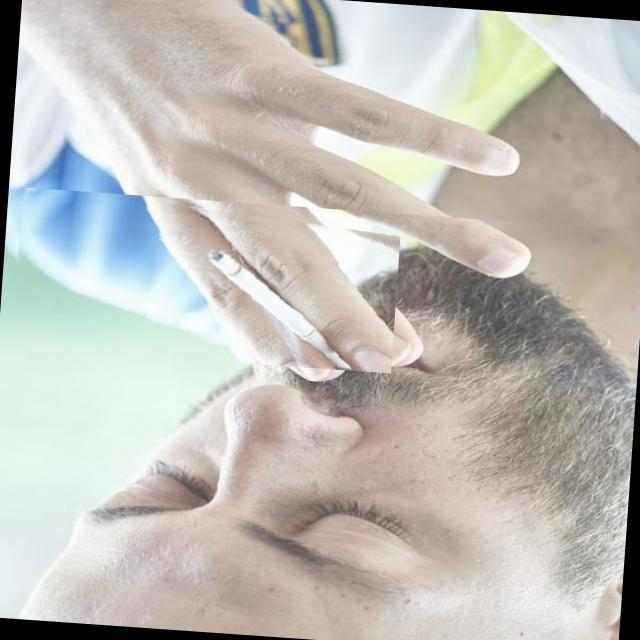cigarette: (139, 202, 401, 374)
